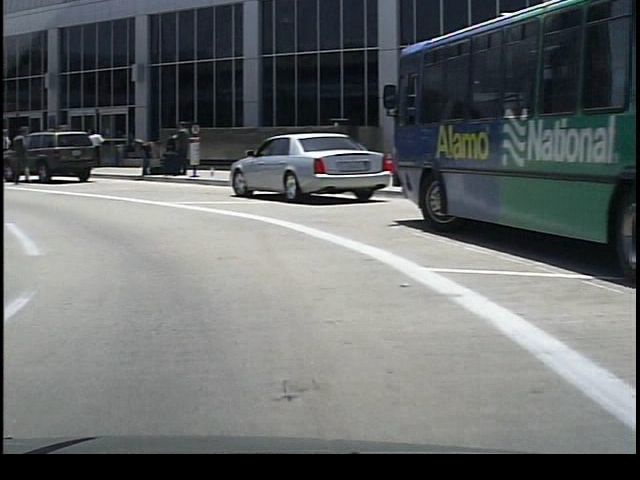person: (7, 118, 36, 192), (128, 129, 158, 183), (166, 121, 186, 177), (83, 126, 103, 167)
